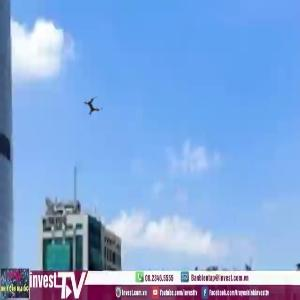drone: (74, 88, 111, 125)
